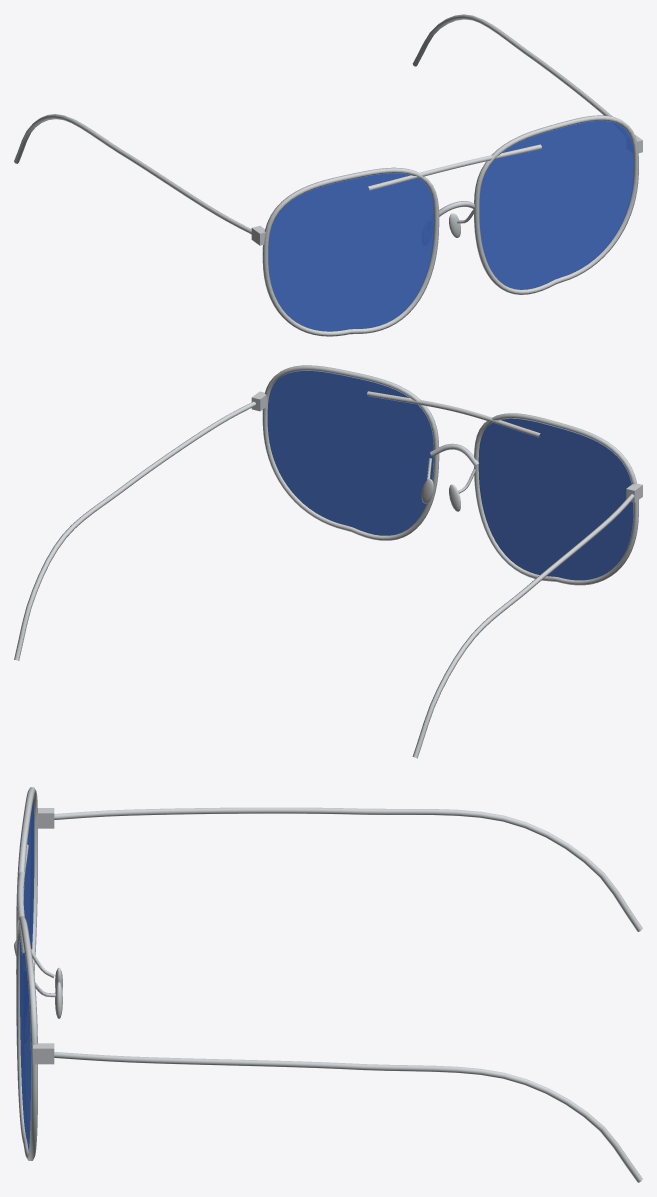
Rendered from NY-S01_Kite_Silver_Blue_mirror_lens.glb.
3 renders of one model, top to bottom at view 1: azimuth 30°, elevation 25°; view 2: azimuth 150°, elevation 25°; view 3: azimuth 270°, elevation 25°, orthographic. The views are drawn at different scales.
Parts seen in each view (by area): view 1: Kite_Silver_Blue_mirror_lens_Lenses, Kite_Silver_Blue_mirror_lens_Metal; view 2: Kite_Silver_Blue_mirror_lens_Lenses, Kite_Silver_Blue_mirror_lens_Metal; view 3: Kite_Silver_Blue_mirror_lens_Metal, Kite_Silver_Blue_mirror_lens_Lenses.
Boxes of the visible parts, x1,y1,x2,y2 form: Kite_Silver_Blue_mirror_lens_Lenses: (268, 121, 634, 331); Kite_Silver_Blue_mirror_lens_Metal: (14, 14, 642, 336); Kite_Silver_Blue_mirror_lens_Lenses: (267, 371, 633, 580); Kite_Silver_Blue_mirror_lens_Metal: (14, 365, 642, 758); Kite_Silver_Blue_mirror_lens_Metal: (14, 787, 642, 1182); Kite_Silver_Blue_mirror_lens_Lenses: (20, 799, 34, 1150).
Size of the model in its own units: 0.1447 by 0.0542 by 0.1481.
